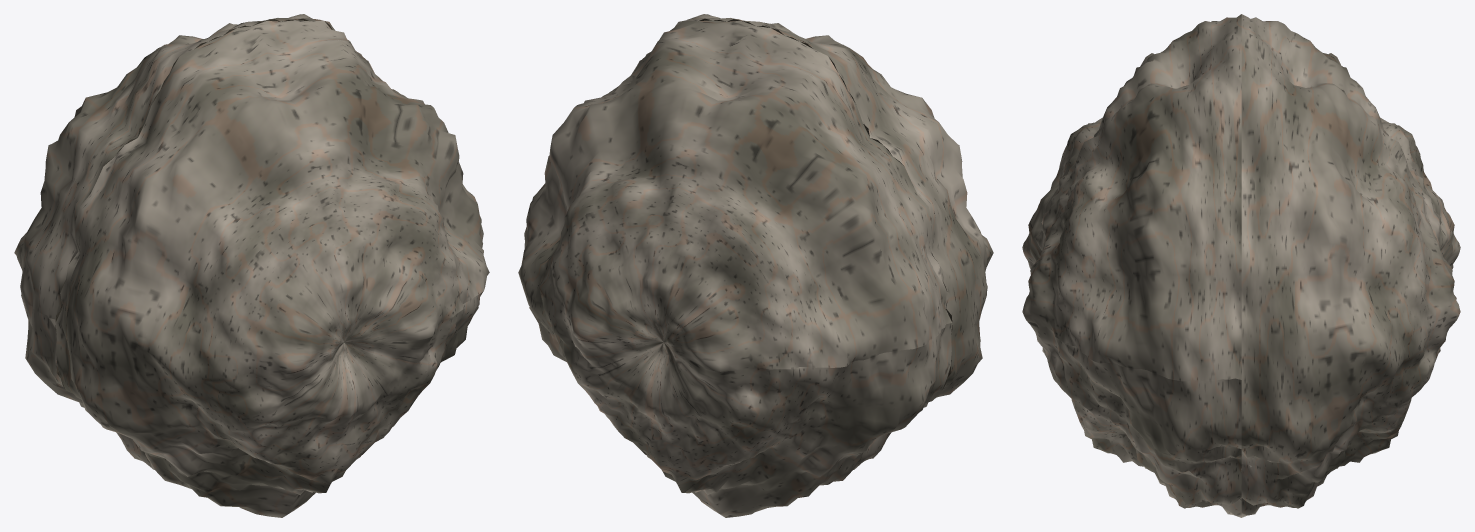
The model's file is quartz-calcite-study-v2.glb.
3 renders of one model, left to right at view 1: azimuth 30°, elevation 25°; view 2: azimuth 150°, elevation 25°; view 3: azimuth 270°, elevation 25°, orthographic.
Visible parts, largest first — view 1: Closed_front, Closed_back; view 2: Closed_back, Closed_front; view 3: Closed_front, Closed_back.
Boxes of the visible parts, x1,y1,x2,y2 form: Closed_front: [55, 20, 489, 517]; Closed_back: [14, 14, 383, 469]; Closed_back: [518, 20, 952, 517]; Closed_front: [613, 14, 993, 469]; Closed_front: [1022, 14, 1241, 517]; Closed_back: [1241, 14, 1460, 517].
Size of the model in its own units: 3.02 by 3.48 by 2.86.
Materials: 8 (3 with a texture image).
